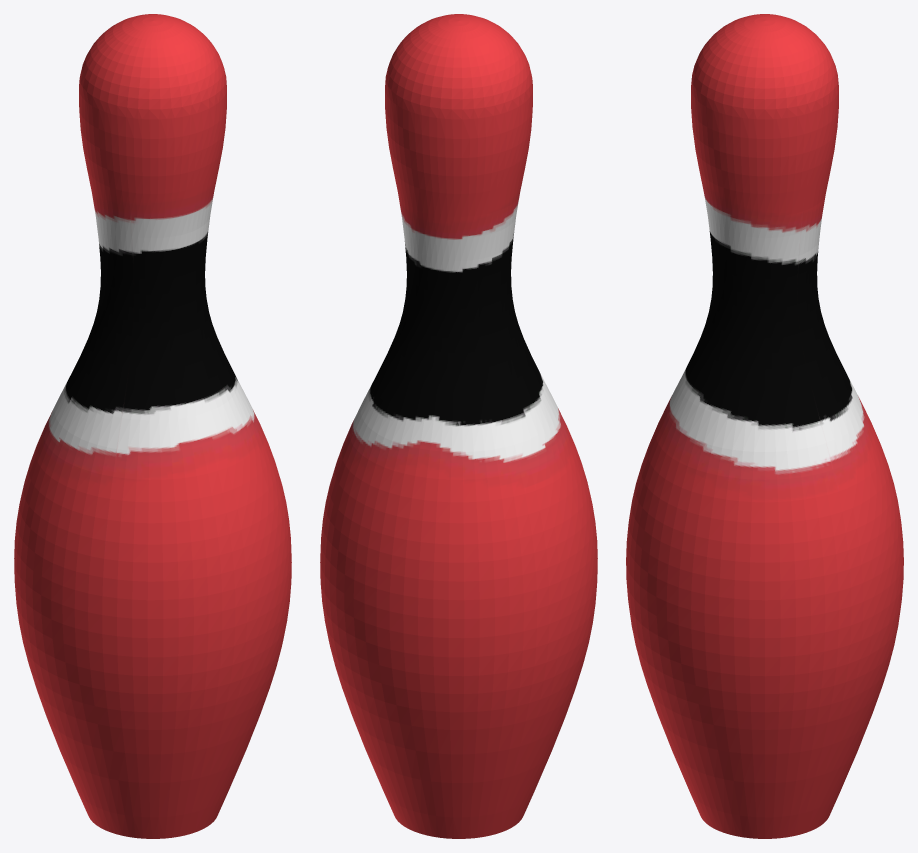
Rendered from タイトルなし.fbx.
The picture shows the model from 3 angles, left to right: view 1: azimuth 30°, elevation 25°; view 2: azimuth 150°, elevation 25°; view 3: azimuth 270°, elevation 25°; orthographic projection.
Parts seen in each view (by area): view 1: node_id119; view 2: node_id119; view 3: node_id119.
Boxes of the visible parts, x1=… form: node_id119: x1=14, y1=14, x2=291, y2=838; node_id119: x1=320, y1=14, x2=597, y2=838; node_id119: x1=626, y1=14, x2=903, y2=838.
Size of the model in its own units: 0.0708 by 0.2226 by 0.0708.
1 material, 1 textured.
